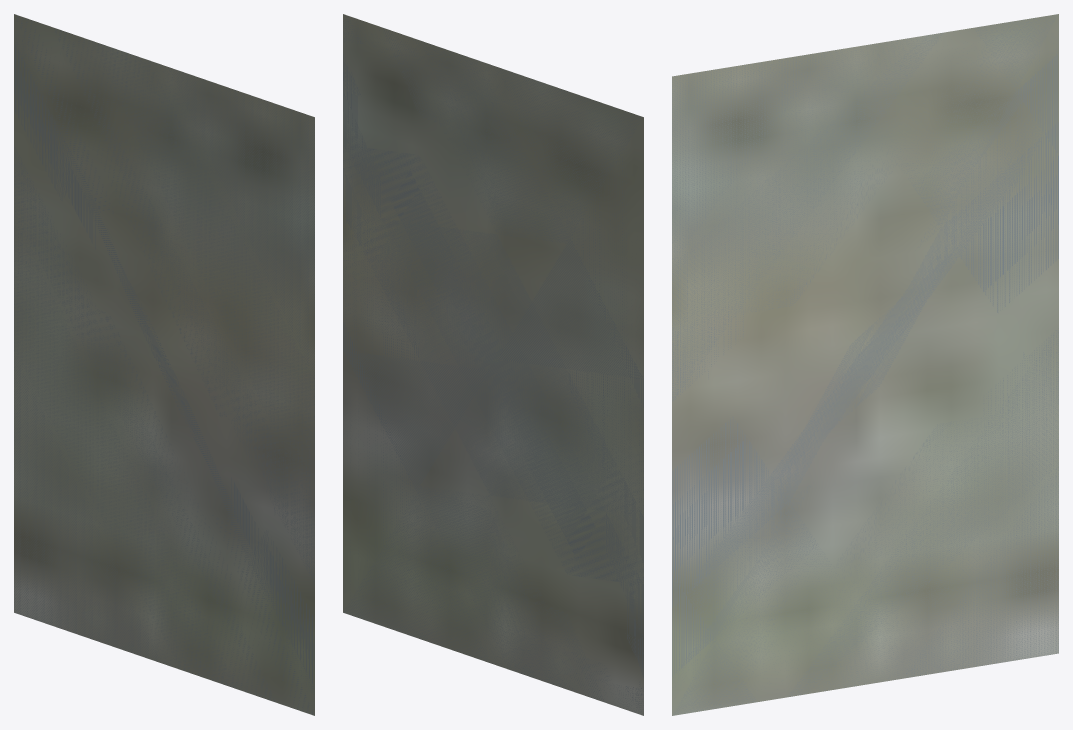
Rendered from 西庸城堡399.dae.
The picture shows the model from 3 angles, left to right: view 1: azimuth 30°, elevation 25°; view 2: azimuth 210°, elevation 25°; view 3: azimuth 270°, elevation 25°; orthographic projection. The views are drawn at different scales.
Parts seen in each view (by area): view 1: SketchUp; view 2: SketchUp; view 3: SketchUp.
Boxes of the visible parts, box(x1,y1,x2,y2) form: SketchUp: box(14, 14, 314, 715); SketchUp: box(343, 14, 643, 715); SketchUp: box(672, 14, 1058, 715).
Size of the model in its own units: 10.55 by 27.62 by 50.39.
